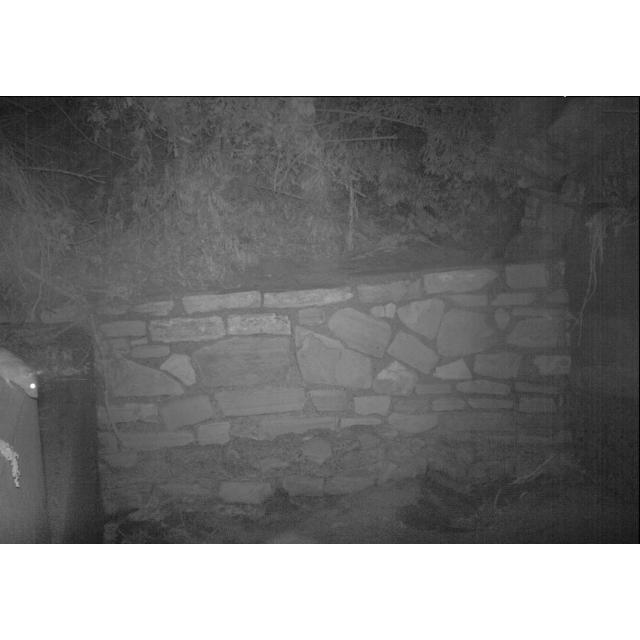animals: (0, 352, 42, 402)
